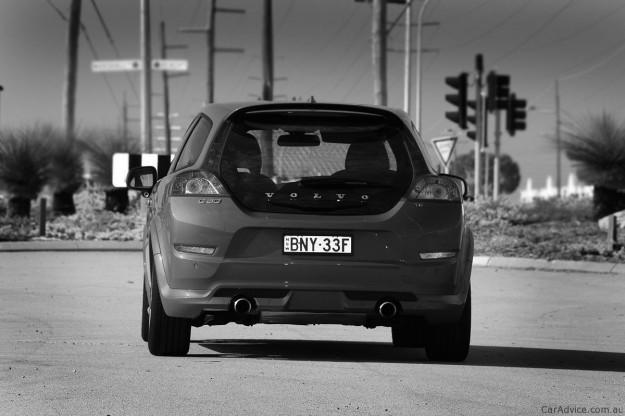car: (135, 95, 481, 367)
